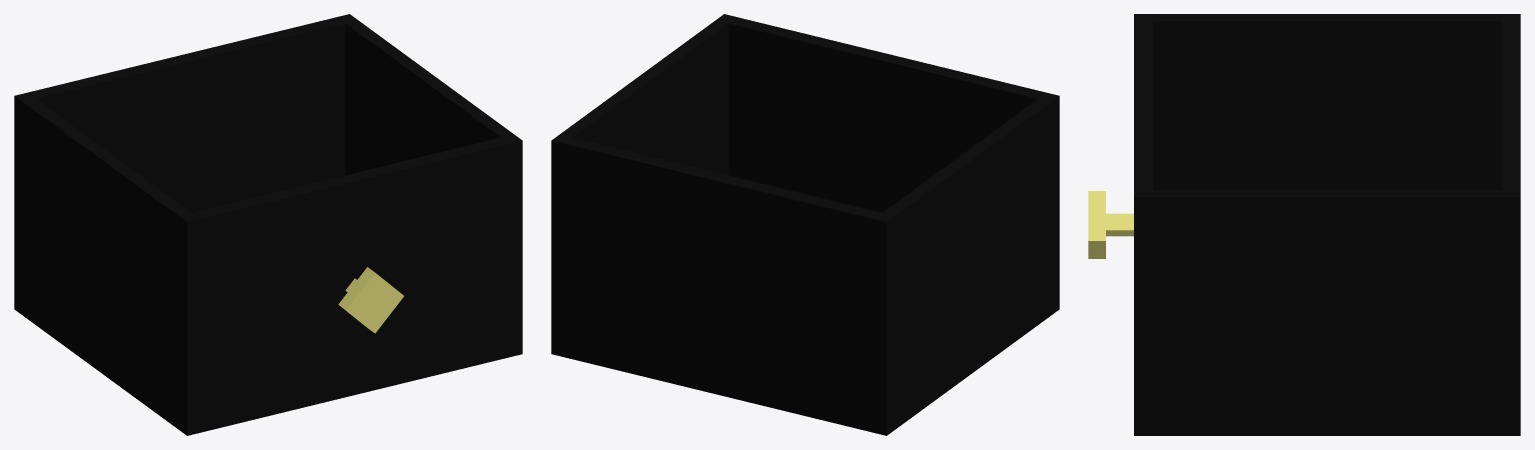
Rendered from Itr_Desk_Drawer_Inside2_05.FBX.
The picture shows the model from 3 angles, left to right: view 1: azimuth 30°, elevation 25°; view 2: azimuth 150°, elevation 25°; view 3: azimuth 270°, elevation 25°; orthographic projection. The views are drawn at different scales.
Visible parts, largest first — view 1: Itr_Desk_Drawer_Inside2_05; view 2: Itr_Desk_Drawer_Inside2_05; view 3: Itr_Desk_Drawer_Inside2_05.
Boxes of the visible parts, left/top/right/bottom form: Itr_Desk_Drawer_Inside2_05: left=14, top=14, right=522, bottom=435; Itr_Desk_Drawer_Inside2_05: left=551, top=14, right=1059, bottom=435; Itr_Desk_Drawer_Inside2_05: left=1088, top=14, right=1520, bottom=435.
Size of the model in its own units: 14.4 by 8.77 by 14.37.
